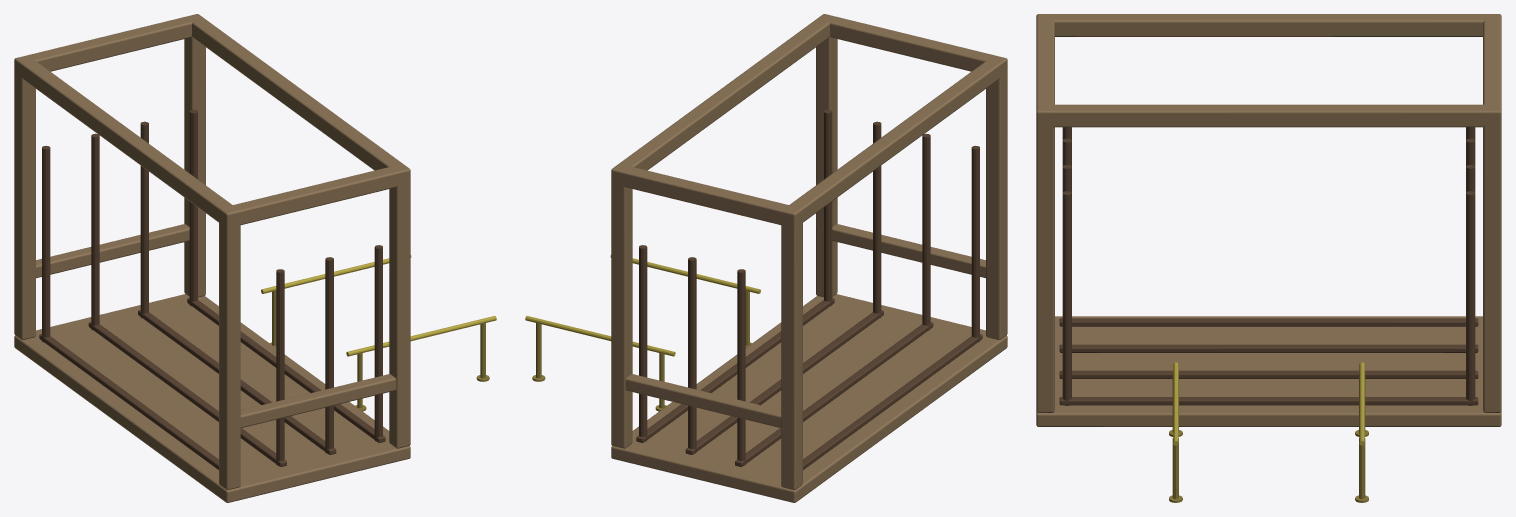
Rendered from rack.glb.
The picture shows the model from 3 angles, left to right: view 1: azimuth 30°, elevation 25°; view 2: azimuth 150°, elevation 25°; view 3: azimuth 270°, elevation 25°; orthographic projection. The views are drawn at different scales.
Parts seen in each view (by area): view 1: Rack, Rack_Base, Rack_Post_-1_-1, Rack_TopRail_-1, Rack_Post_1_-1, Rack_EndRail_-1, Rack_EndRailLow_-1, Rack_Peg_1_-1, Rack_Peg_2_-1, Rack_Peg_3_-1, Rack_Rail_-1; view 2: Rack, Rack_Base, Rack_TopRail_-1, Rack_Post_-1_-1, Rack_Post_1_-1, Rack_EndRail_-1, Rack_EndRailLow_-1, Rack_Peg_0_-1, Rack_Peg_1_-1, Rack_Peg_2_-1, Rack_Peg_3_-1, Rack_Rail_-1; view 3: Rack, Rack_Base, Rack_TopRail_-1, Rack_Post_1_-1, Rack_Peg_3_-1, Rack_EndRail_-1.
Boxes of the visible parts, bbox=[...] form: Rack: bbox=[14, 14, 489, 469]; Rack_Base: bbox=[14, 294, 410, 502]; Rack_Post_-1_-1: bbox=[219, 205, 240, 489]; Rack_TopRail_-1: bbox=[14, 58, 239, 227]; Rack_Post_1_-1: bbox=[389, 164, 410, 448]; Rack_EndRail_-1: bbox=[219, 165, 410, 227]; Rack_EndRailLow_-1: bbox=[220, 374, 396, 429]; Rack_Peg_1_-1: bbox=[276, 269, 284, 465]; Rack_Peg_2_-1: bbox=[325, 257, 333, 453]; Rack_Peg_3_-1: bbox=[374, 245, 382, 441]; Rack_Rail_-1: bbox=[346, 316, 496, 356]; Rack: bbox=[525, 18, 982, 489]; Rack_Base: bbox=[611, 294, 1007, 502]; Rack_TopRail_-1: bbox=[782, 56, 1006, 227]; Rack_Post_-1_-1: bbox=[986, 55, 1007, 339]; Rack_Post_1_-1: bbox=[816, 14, 837, 297]; Rack_EndRail_-1: bbox=[821, 15, 1007, 76]; Rack_EndRailLow_-1: bbox=[832, 224, 1006, 279]; Rack_Peg_0_-1: bbox=[971, 145, 979, 342]; Rack_Peg_1_-1: bbox=[922, 133, 930, 330]; Rack_Peg_2_-1: bbox=[873, 121, 881, 317]; Rack_Peg_3_-1: bbox=[824, 109, 832, 306]; Rack_Rail_-1: bbox=[610, 254, 760, 293]; Rack: bbox=[1036, 14, 1501, 502]; Rack_Base: bbox=[1036, 316, 1501, 426]; Rack_TopRail_-1: bbox=[1036, 14, 1499, 36]; Rack_Post_1_-1: bbox=[1036, 104, 1054, 412]; Rack_Peg_3_-1: bbox=[1062, 191, 1071, 405]; Rack_EndRail_-1: bbox=[1036, 20, 1054, 126].
Size of the model in its own units: 0.54 by 0.45 by 0.6.
